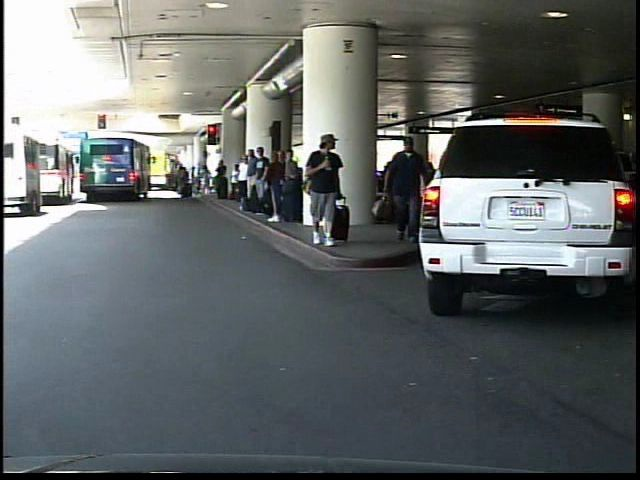person: (307, 128, 351, 248), (387, 130, 425, 248)
